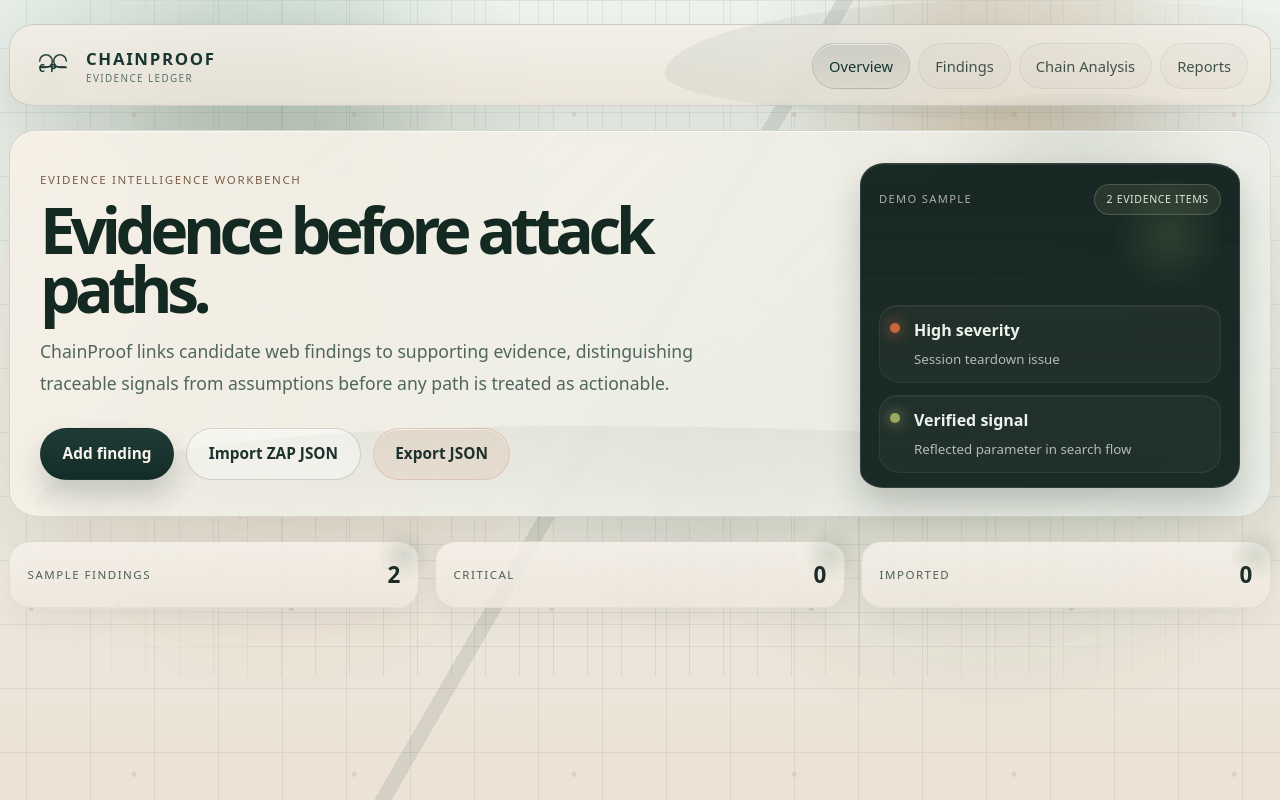
Test case: App › renders the evidence-led overview and opens the add finding form
Expected: the heading "Evidence before attack paths." is shown, [40,186,650,332]
Click the button "Add finding" at (107, 454), box [40,428,174,480]
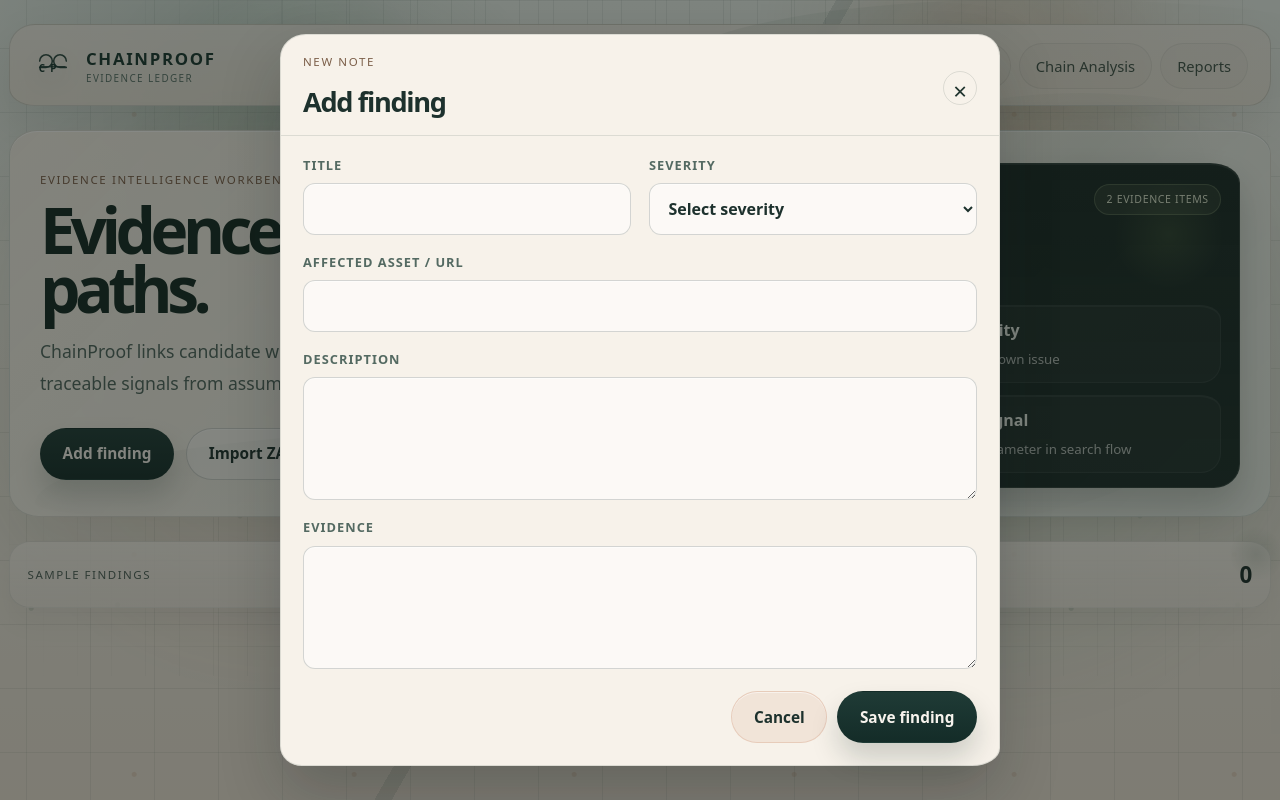
Result: the dialog "Add finding" is shown at [280,34,1000,766]
